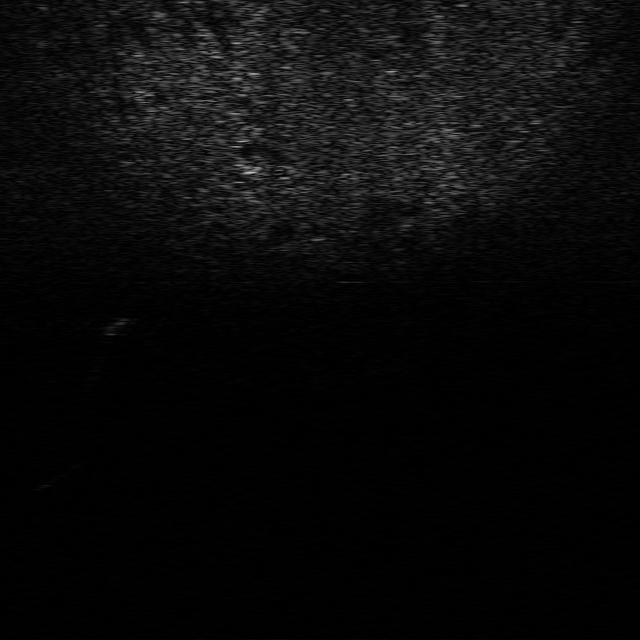cylinder: (102, 312, 128, 336)
